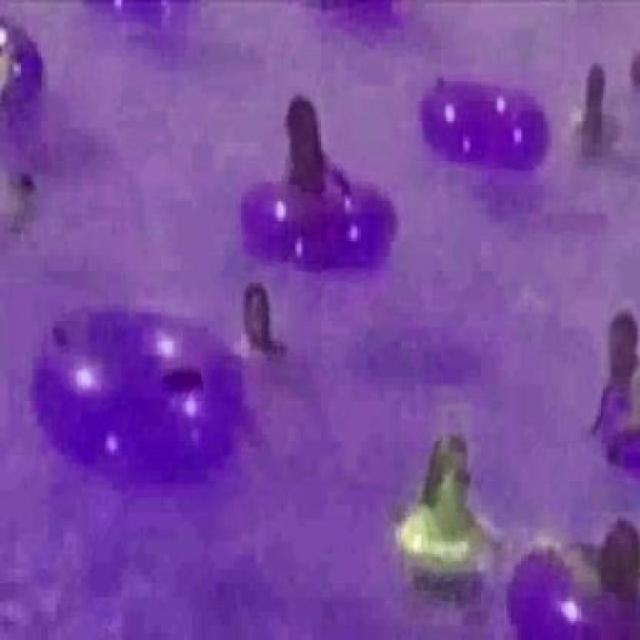drowning: (391, 430, 498, 632), (569, 57, 620, 160), (233, 284, 284, 368), (0, 169, 48, 256)
